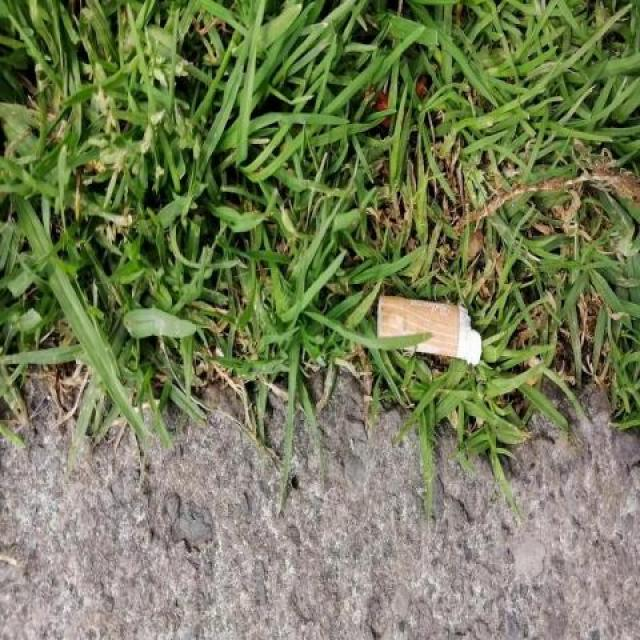non-organic waste: (370, 286, 486, 371)
